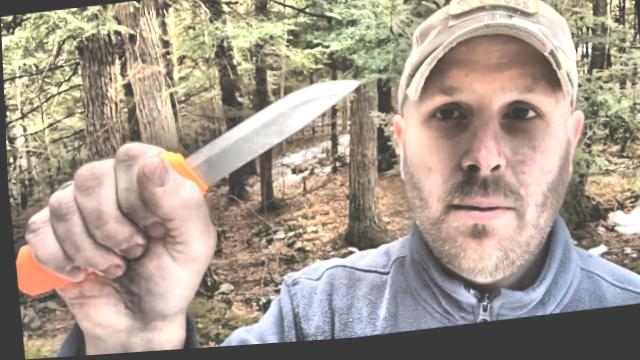knife: (87, 77, 379, 264)
